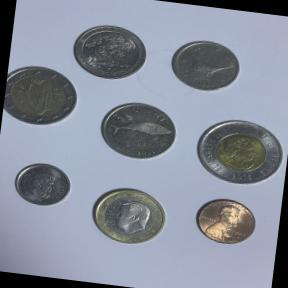1 Euro-B: (84, 180, 176, 254)
2 Euro-B: (1, 59, 84, 136)
Canada-10cent-B: (8, 157, 78, 214)
Canada-2Dollar-B: (185, 105, 288, 194)
Croatia-2Kune-B: (89, 90, 185, 170)
US-1cent-B: (186, 191, 262, 252)
US-25cent-B: (67, 19, 153, 84)
